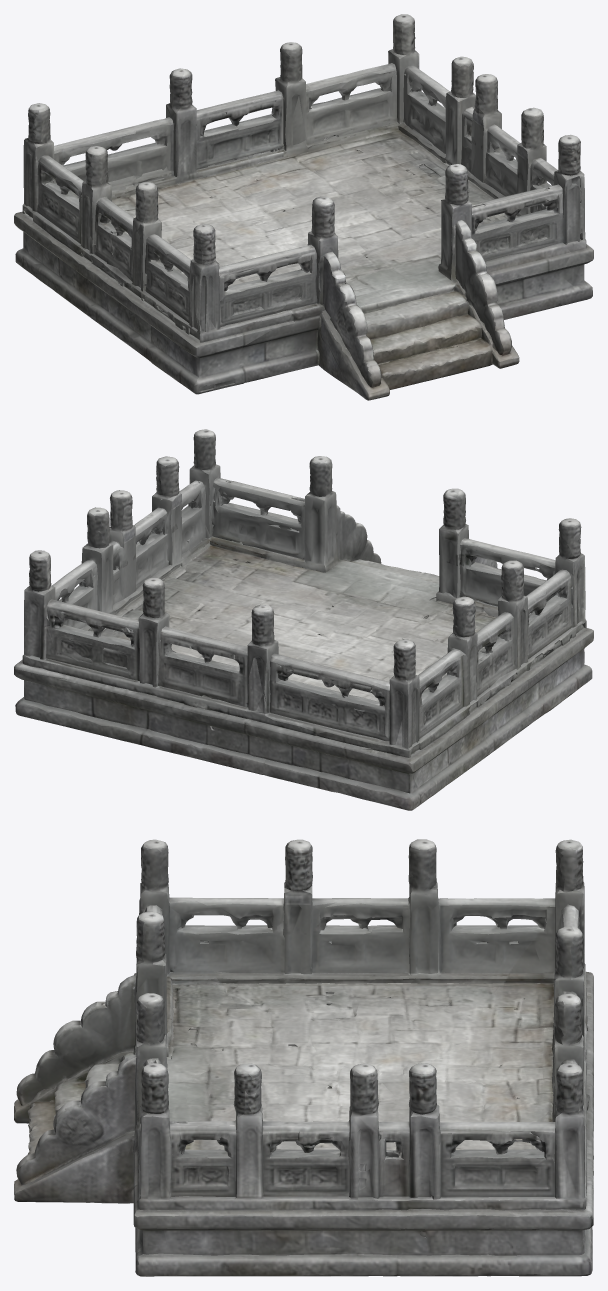
The model's file is stone-terrace_raw.glb.
The picture shows the model from 3 angles, top to bottom: view 1: azimuth 30°, elevation 25°; view 2: azimuth 150°, elevation 25°; view 3: azimuth 270°, elevation 25°; orthographic projection. The views are drawn at different scales.
Parts seen in each view (by area): view 1: geometry_0; view 2: geometry_0; view 3: geometry_0.
Boxes of the visible parts, left/top/right/bottom form: geometry_0: left=14, top=14, right=593, bottom=400; geometry_0: left=14, top=429, right=593, bottom=810; geometry_0: left=14, top=839, right=593, bottom=1276.
Bounding box in the file's own units: 0.45 × 0.1745 × 0.4499.
Materials: 1 (1 with a texture image).
